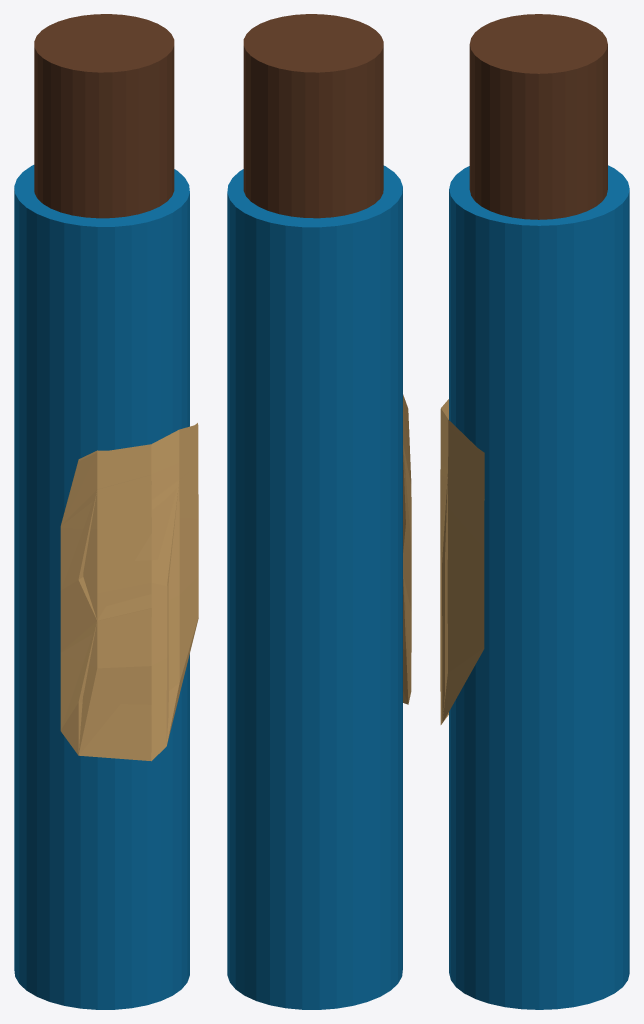
The model's file is SmallPotionBLUE.fbx.
3 views of the same model, side by side, from view 1: azimuth 30°, elevation 25°; view 2: azimuth 150°, elevation 25°; view 3: azimuth 270°, elevation 25° (orthographic).
Visible parts, largest first — view 1: Sphere, Plane, Cylinder.001; view 2: Sphere, Cylinder.001, Plane; view 3: Sphere, Cylinder.001, Plane.
Part boxes in pixels (left/top/right/bottom): Sphere: left=14, top=165, right=189, bottom=1009; Plane: left=60, top=423, right=198, bottom=761; Cylinder.001: left=34, top=14, right=174, bottom=218; Sphere: left=227, top=165, right=402, bottom=1009; Cylinder.001: left=243, top=14, right=383, bottom=218; Plane: left=403, top=394, right=411, bottom=704; Sphere: left=449, top=165, right=629, bottom=1009; Cylinder.001: left=469, top=14, right=607, bottom=219; Plane: left=440, top=399, right=484, bottom=724.
Size of the model in its own units: 30.71 by 180 by 33.33.
